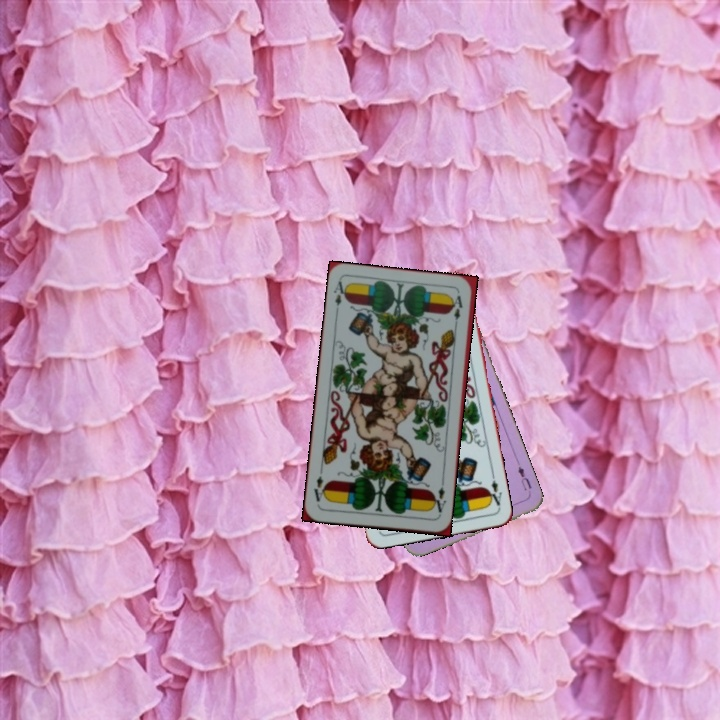EA: (330, 277, 350, 318), (483, 476, 504, 511), (428, 483, 449, 518)
EU: (513, 459, 534, 493)
